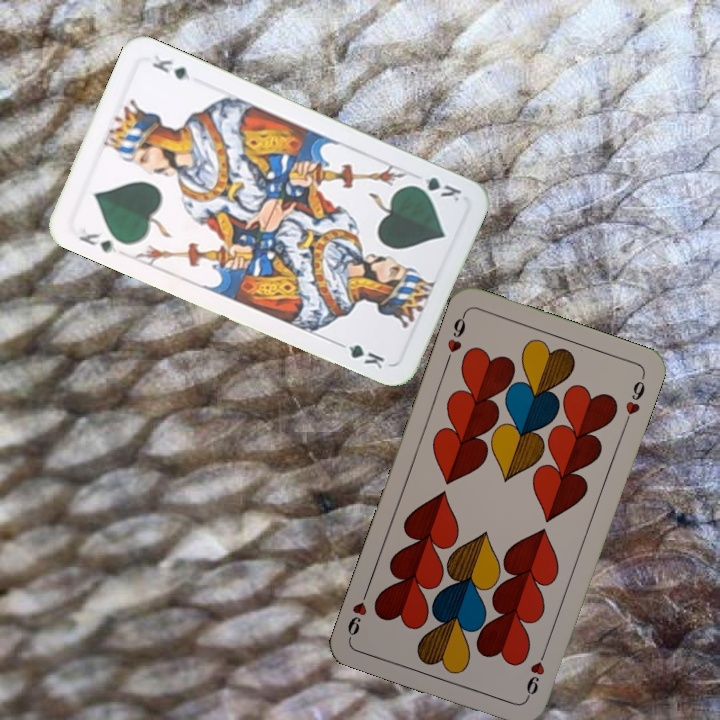GK: (407, 173, 464, 205), (74, 229, 121, 256)
H9: (521, 645, 550, 702), (441, 309, 469, 366)
